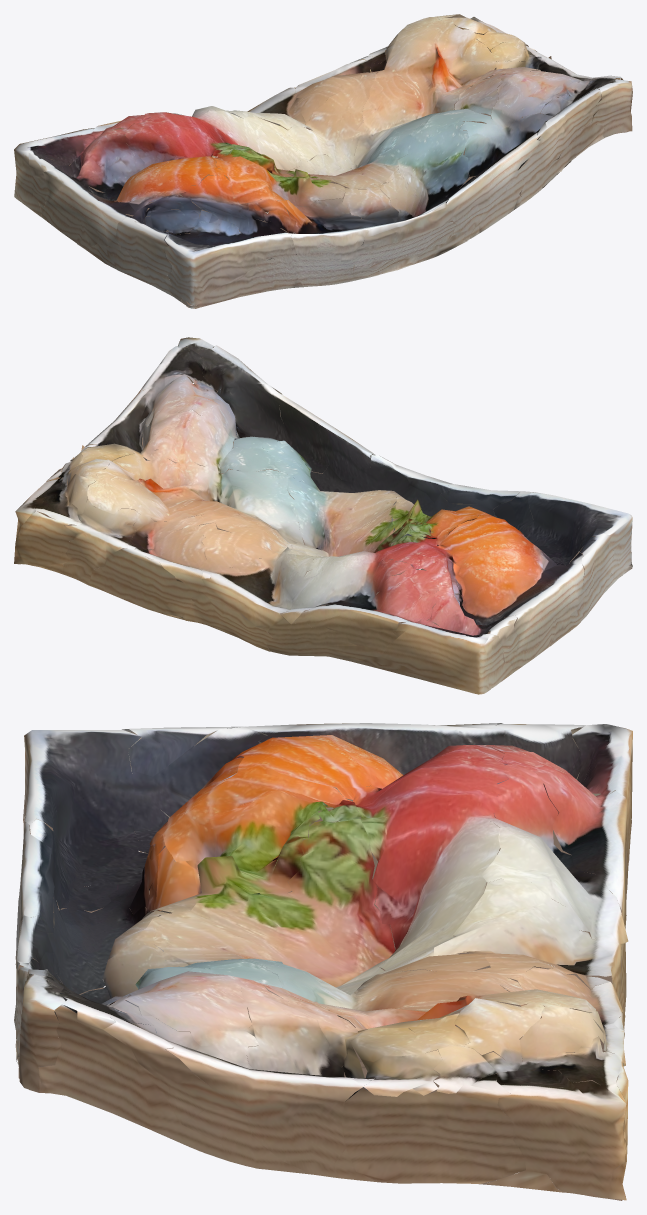
The model's file is sushiBroken.fbx.
The picture shows the model from 3 angles, top to bottom: view 1: azimuth 30°, elevation 25°; view 2: azimuth 150°, elevation 25°; view 3: azimuth 270°, elevation 25°; orthographic projection. The views are drawn at different scales.
Visible parts, largest first — view 1: ObjectCapture_5; view 2: ObjectCapture_5; view 3: ObjectCapture_5.
Part boxes in pixels (x1,y1,x2,y2): ObjectCapture_5: [14, 14, 632, 308]; ObjectCapture_5: [14, 337, 632, 694]; ObjectCapture_5: [14, 723, 632, 1200].
Size of the model in its own units: 19.32 by 5.25 by 12.04.
